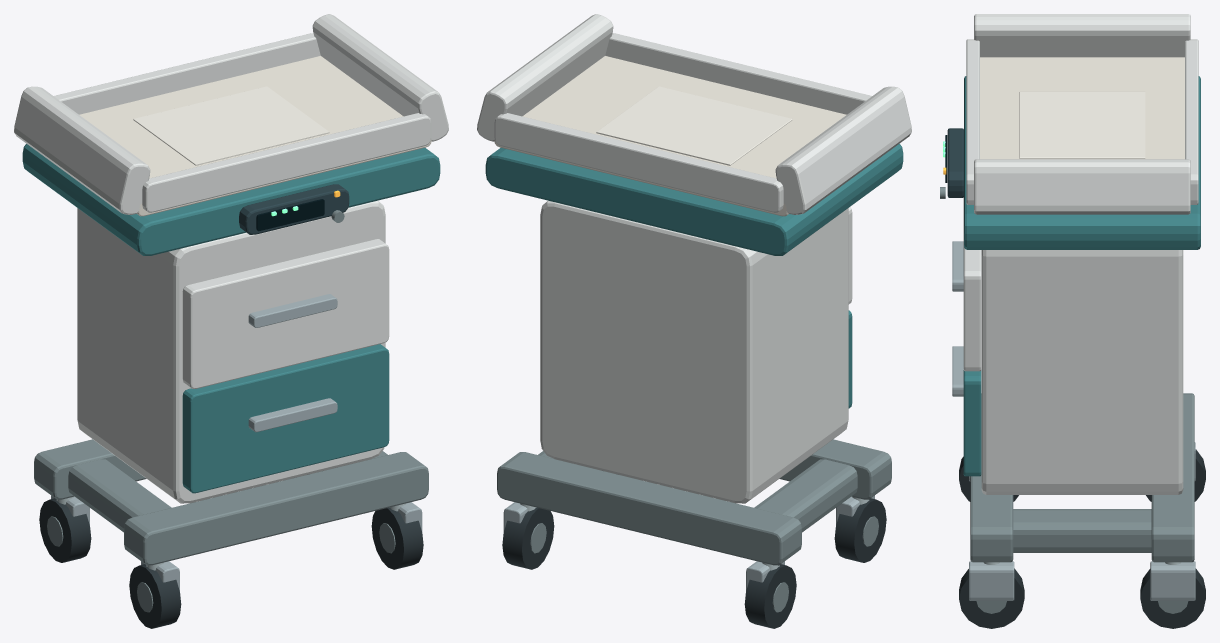
The model's file is infant-scale.glb.
The picture shows the model from 3 angles, left to right: view 1: azimuth 30°, elevation 25°; view 2: azimuth 150°, elevation 25°; view 3: azimuth 270°, elevation 25°; orthographic projection.
Parts seen in each view (by area): view 1: infant-scale-batch (×5), weighing-tray, infant-scale; view 2: infant-scale-batch (×5), weighing-tray, infant-scale; view 3: infant-scale-batch (×5), weighing-tray, infant-scale.
Part boxes in pixels (left/top/right/bottom): infant-scale-batch (×5): left=14, top=14, right=448, bottom=628; weighing-tray: left=79, top=56, right=431, bottom=216; infant-scale: left=133, top=86, right=349, bottom=234; infant-scale-batch (×5): left=477, top=14, right=911, bottom=628; weighing-tray: left=494, top=56, right=846, bottom=216; infant-scale: left=596, top=86, right=792, bottom=165; infant-scale-batch (×5): left=940, top=14, right=1205, bottom=628; weighing-tray: left=980, top=57, right=1184, bottom=159; infant-scale: left=943, top=91, right=1145, bottom=197.
Size of the model in its own units: 0.7607 by 1.04 by 0.5275.
